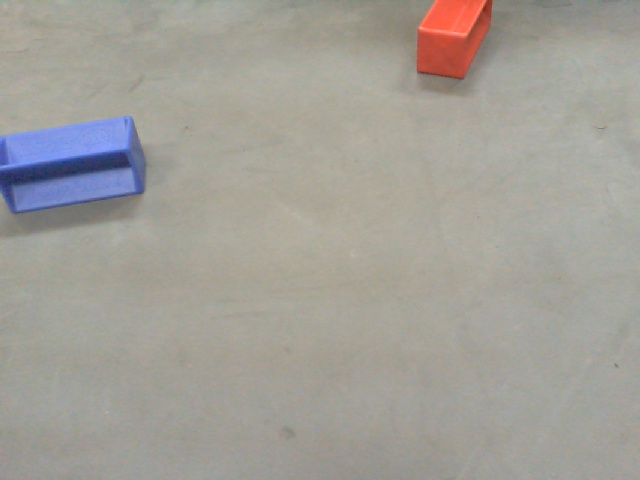BlueSample: (1, 112, 149, 215)
RedSample: (409, 1, 499, 80)
